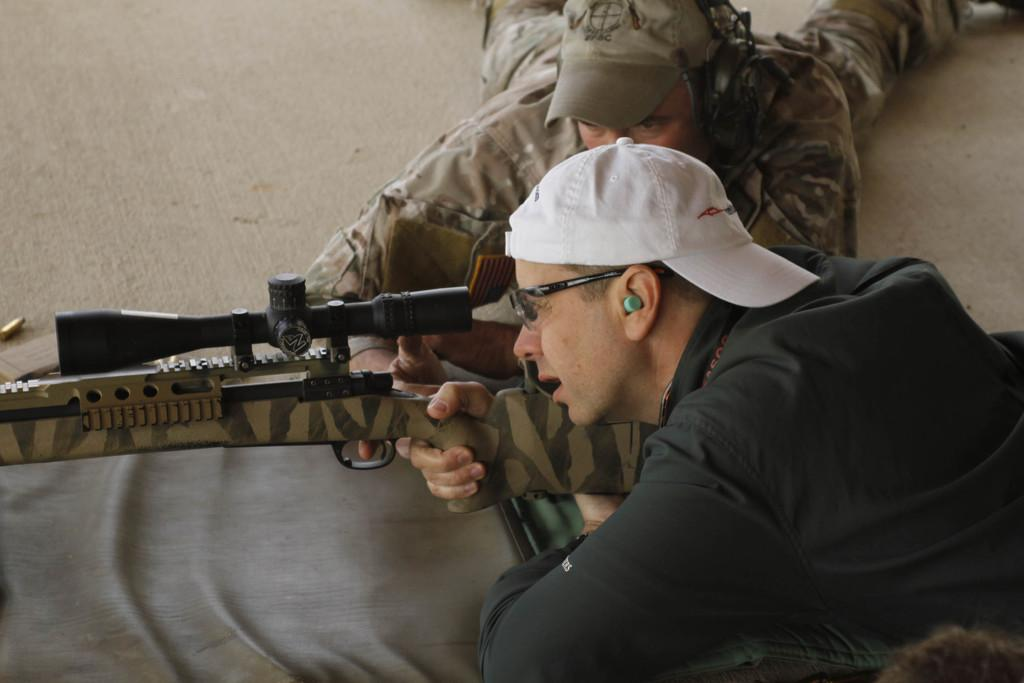Rifle: (0, 277, 659, 510)
